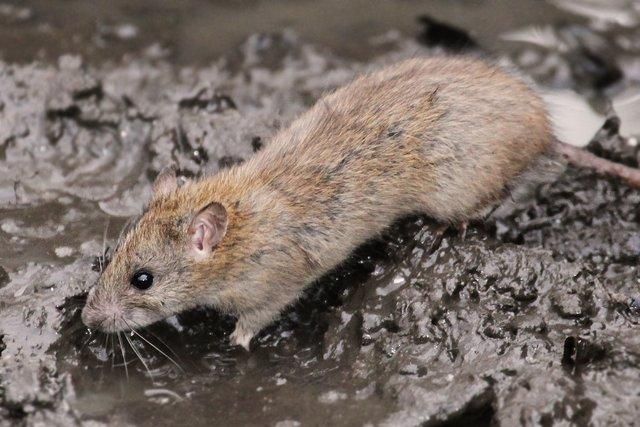rat: (61, 37, 624, 359)
